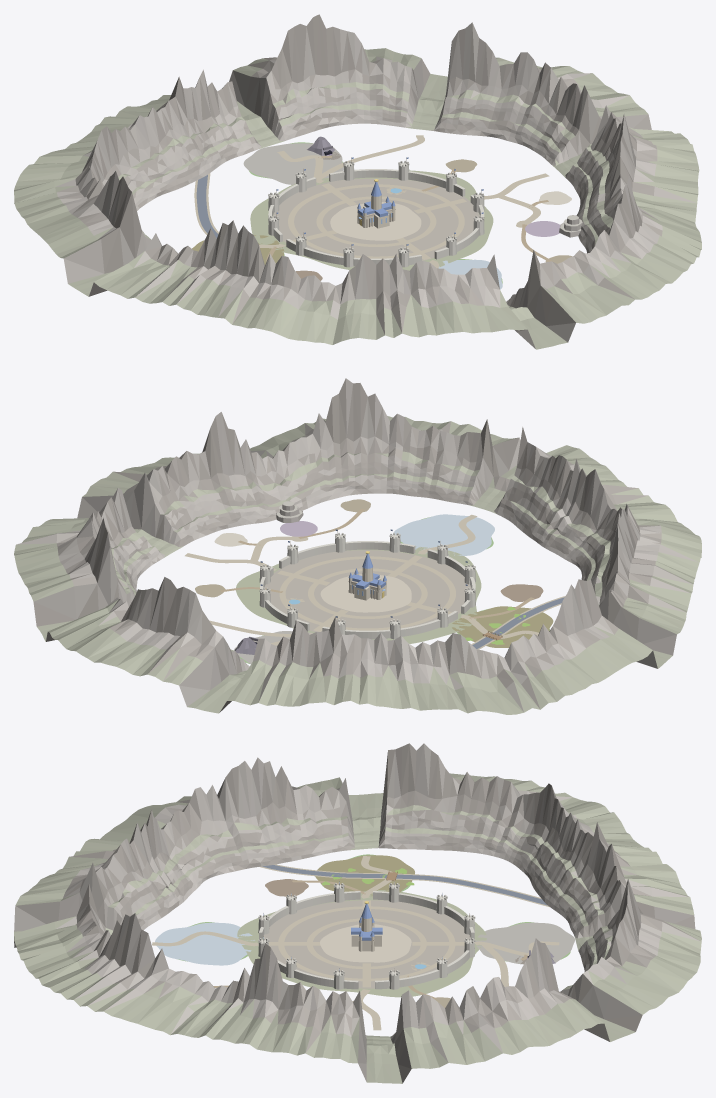
Rendered from map_field_ruins.glb.
3 renders of one model, top to bottom at view 1: azimuth 30°, elevation 25°; view 2: azimuth 150°, elevation 25°; view 3: azimuth 270°, elevation 25°, orthographic.
Parts seen in each view (by area): view 1: Z_field_ruins_penhascos, Z_field_ruins_chao_cidade, Z_field_ruins_chao_front_bones, Z_field_ruins_chao_campo_cidade, Z_field_ruins_praca_praca, Z_field_ruins_estrada_anel_externo, Z_field_ruins_estrada_anel, Z_field_ruins_chao_front_frost, Z_field_ruins_agua_rio_1, Z_field_ruins_estrada_cidadela; view 2: Z_field_ruins_penhascos, Z_field_ruins_chao_cidade, Z_field_ruins_chao_front_frost, Z_field_ruins_chao_campo_cidade, Z_field_ruins_praca_praca, Z_field_ruins_chao_front_ghoul, Z_field_ruins_estrada_anel_externo, Z_field_ruins_estrada_anel, Z_field_ruins_agua_rio_1, Z_field_ruins_chao_ninho_putrido; view 3: Z_field_ruins_penhascos, Z_field_ruins_chao_cidade, Z_field_ruins_chao_front_frost, Z_field_ruins_chao_campo_cidade, Z_field_ruins_chao_front_bones, Z_field_ruins_praca_praca, Z_field_ruins_chao_front_ghoul, Z_field_ruins_estrada_anel_externo, Z_field_ruins_agua_rio_1, Z_field_ruins_estrada_anel, Z_field_ruins_margem_rio_1, Z_field_ruins_chao_ninho_putrido.
Boxes of the visible parts, x1,y1,x2,y2 form: Z_field_ruins_penhascos: [14, 14, 701, 349]; Z_field_ruins_chao_cidade: [273, 178, 479, 260]; Z_field_ruins_chao_front_bones: [243, 143, 343, 184]; Z_field_ruins_chao_campo_cidade: [250, 170, 493, 270]; Z_field_ruins_praca_praca: [330, 202, 421, 240]; Z_field_ruins_estrada_anel_externo: [288, 184, 464, 258]; Z_field_ruins_estrada_anel: [316, 196, 436, 246]; Z_field_ruins_chao_front_frost: [438, 259, 502, 289]; Z_field_ruins_agua_rio_1: [196, 175, 218, 238]; Z_field_ruins_estrada_cidadela: [315, 135, 424, 178]; Z_field_ruins_penhascos: [14, 378, 701, 714]; Z_field_ruins_chao_cidade: [264, 550, 471, 632]; Z_field_ruins_chao_front_frost: [393, 514, 494, 555]; Z_field_ruins_chao_campo_cidade: [236, 546, 481, 643]; Z_field_ruins_praca_praca: [320, 574, 411, 612]; Z_field_ruins_chao_front_ghoul: [452, 606, 553, 647]; Z_field_ruins_estrada_anel_externo: [279, 556, 455, 630]; Z_field_ruins_estrada_anel: [308, 568, 427, 618]; Z_field_ruins_agua_rio_1: [472, 597, 564, 648]; Z_field_ruins_chao_ninho_putrido: [500, 584, 543, 601]; Z_field_ruins_penhascos: [14, 743, 701, 1083]; Z_field_ruins_chao_cidade: [264, 900, 470, 988]; Z_field_ruins_chao_front_frost: [155, 922, 254, 965]; Z_field_ruins_chao_campo_cidade: [237, 890, 486, 997]; Z_field_ruins_chao_front_bones: [475, 922, 574, 964]; Z_field_ruins_praca_praca: [320, 924, 411, 962]; Z_field_ruins_chao_front_ghoul: [315, 855, 414, 896]; Z_field_ruins_estrada_anel_externo: [278, 906, 455, 981]; Z_field_ruins_agua_rio_1: [262, 865, 547, 905]; Z_field_ruins_estrada_anel: [306, 918, 426, 969]; Z_field_ruins_margem_rio_1: [259, 864, 549, 907]; Z_field_ruins_chao_ninho_putrido: [265, 879, 308, 896].
Bounding box in the file's own units: 362 × 56.96 × 362.
